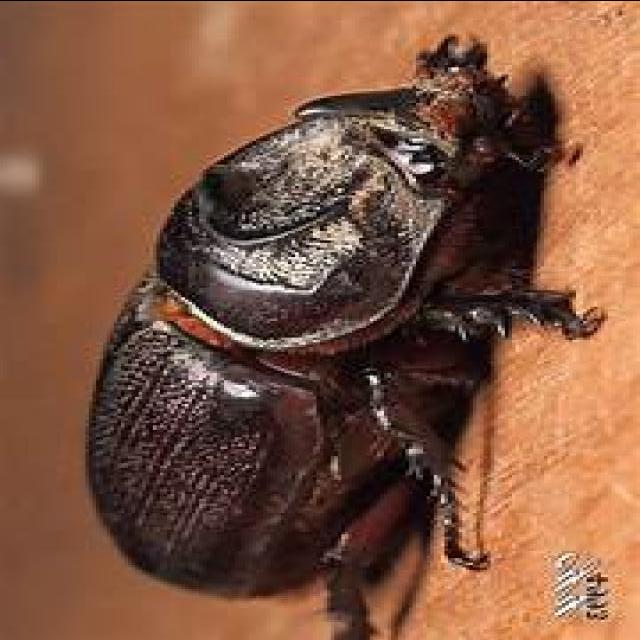Rhino-beetle: (71, 32, 600, 616)
